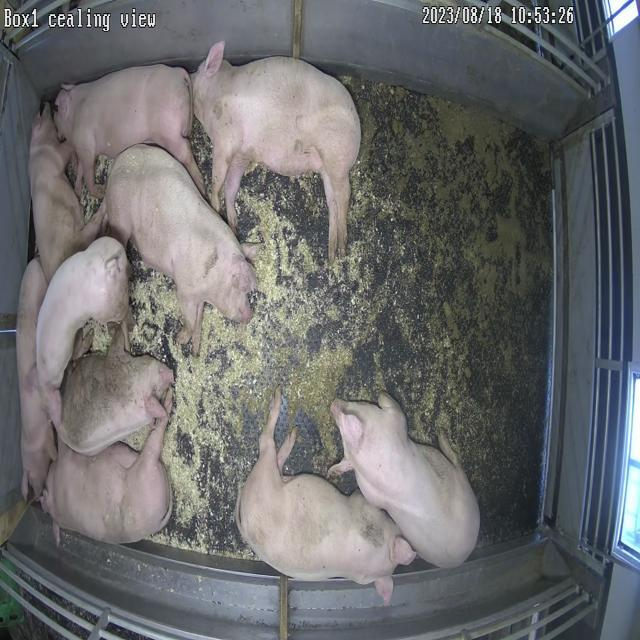Dirt: (346, 80, 553, 542)
Pig: (236, 391, 416, 606), (192, 42, 362, 260), (81, 145, 256, 352), (329, 393, 481, 568), (54, 64, 204, 194), (36, 237, 128, 426), (40, 415, 172, 546), (60, 325, 174, 456), (28, 103, 99, 280), (15, 259, 56, 500)
